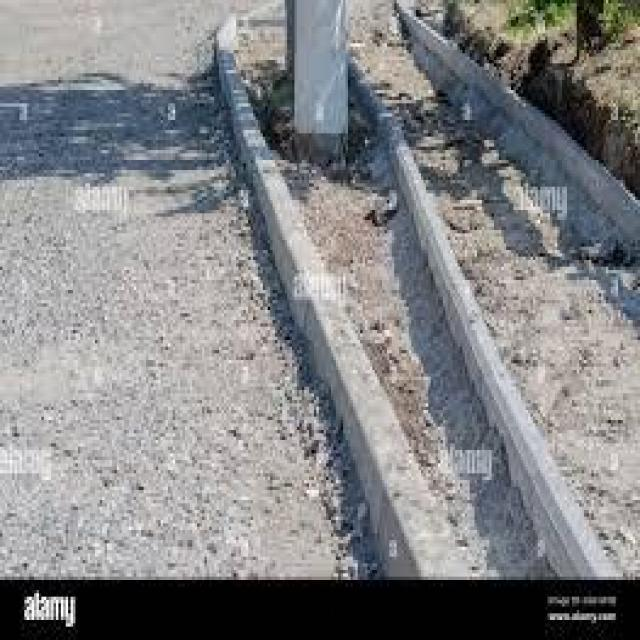bump: (279, 239, 453, 569)
